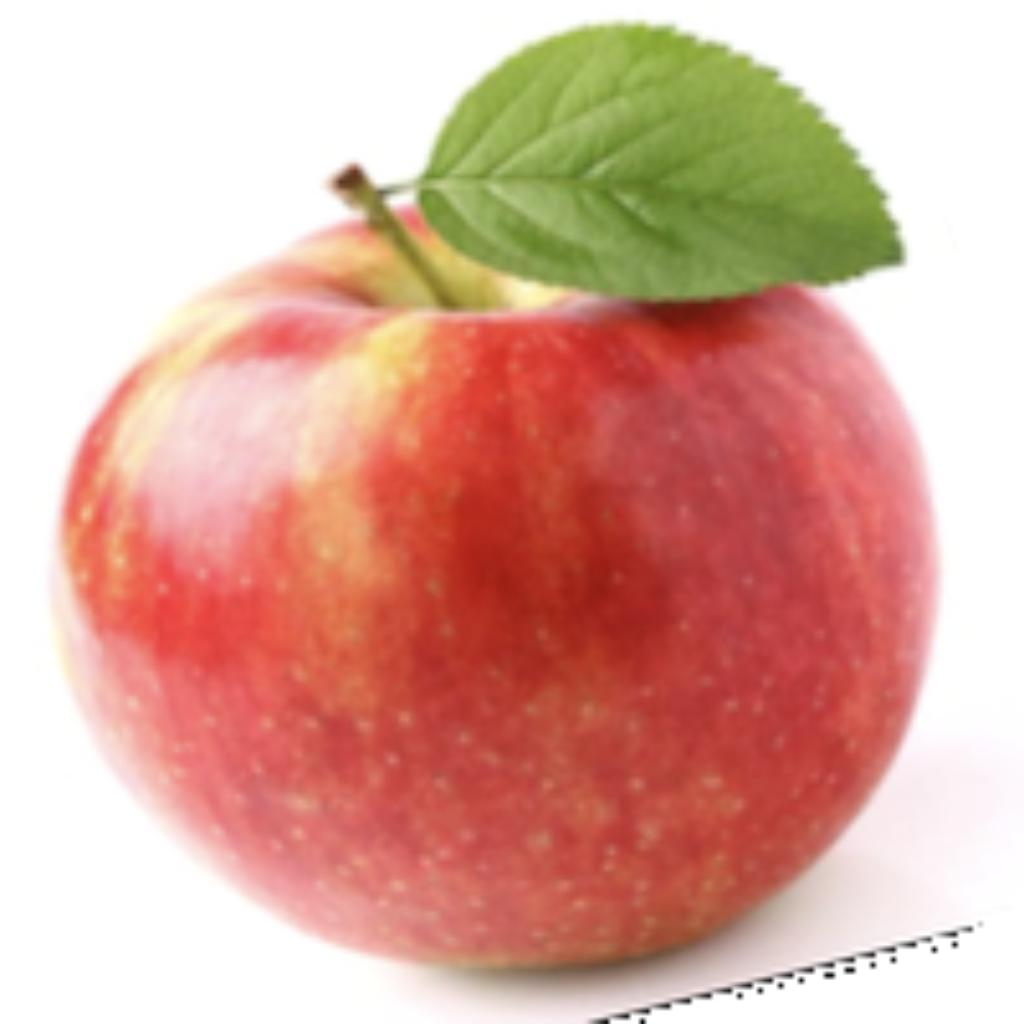apple: (41, 11, 983, 1019)
